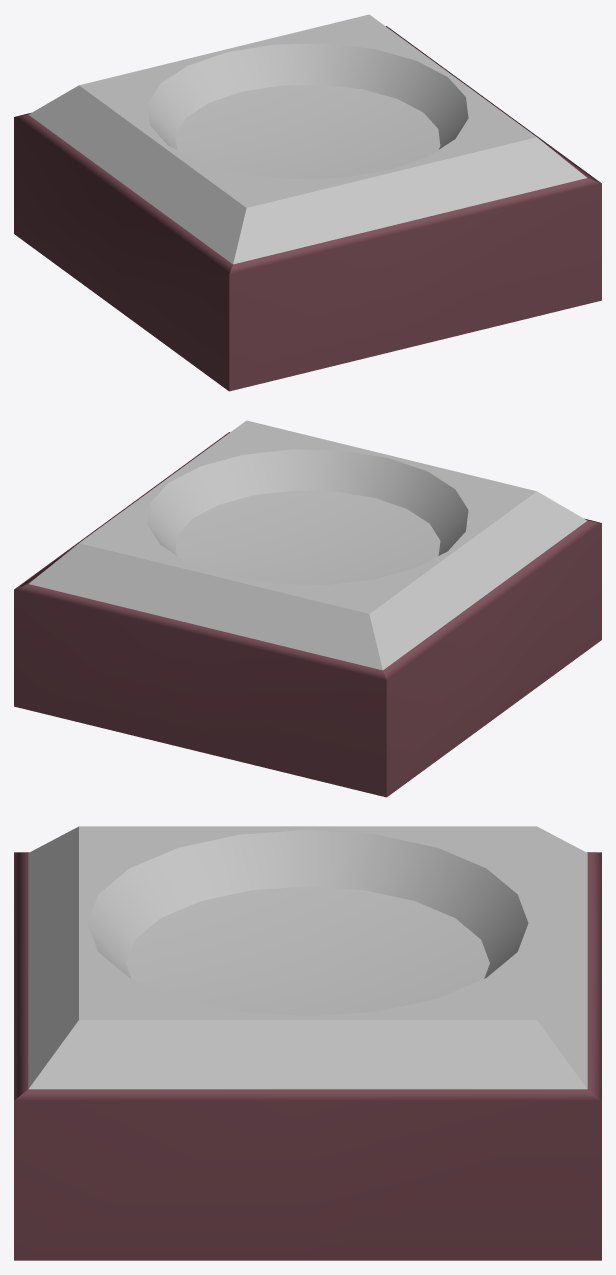
The model's file is DishTray_Model.fbx.
3 views of the same model, one above another, from view 1: azimuth 30°, elevation 25°; view 2: azimuth 150°, elevation 25°; view 3: azimuth 270°, elevation 25° (orthographic). The views are drawn at different scales.
Parts seen in each view (by area): view 1: DishTray; view 2: DishTray; view 3: DishTray.
Boxes of the visible parts, x1,y1,x2,y2 form: DishTray: (14,14,601,391); DishTray: (14,420,601,797); DishTray: (14,826,601,1260).
Size of the model in its own units: 100 by 40 by 100.
